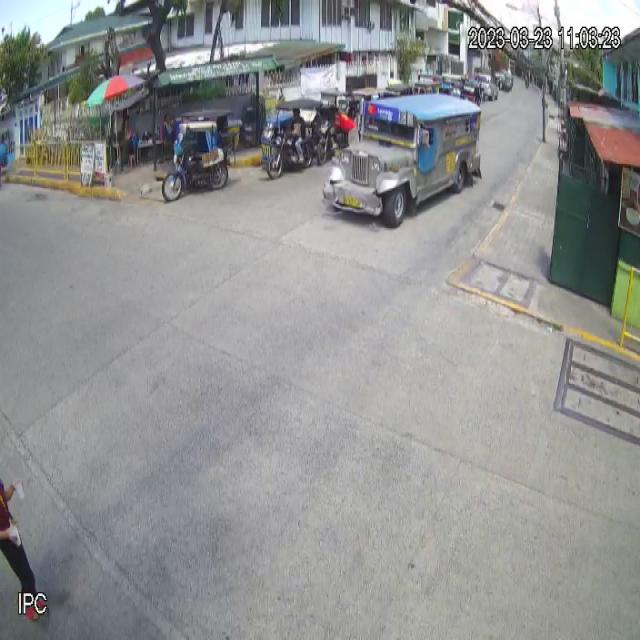Jeep: (322, 93, 482, 230)
